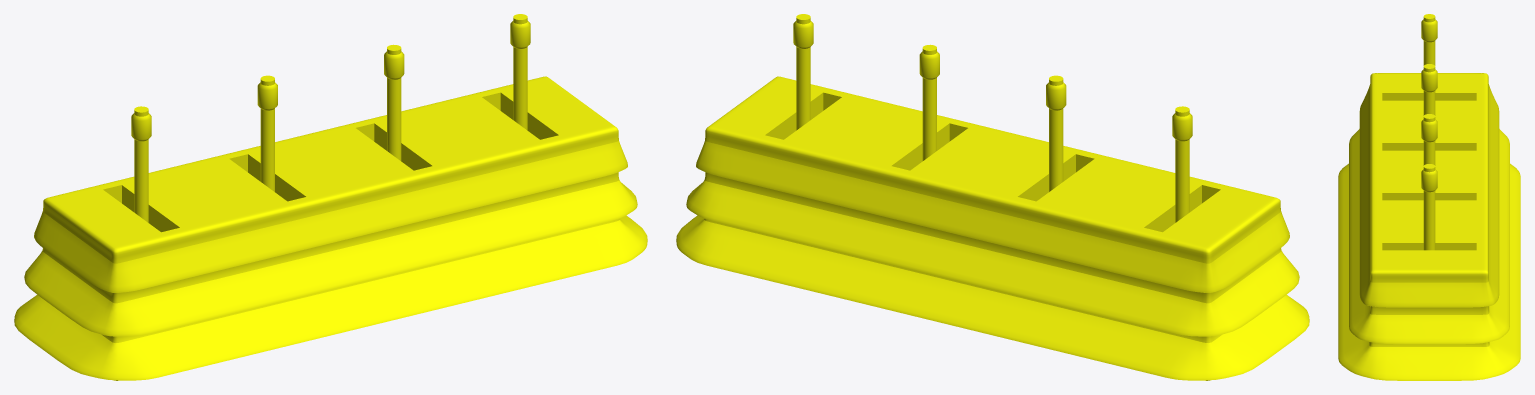
File: PuzzleBox.fbx
The picture shows the model from 3 angles, left to right: view 1: azimuth 30°, elevation 25°; view 2: azimuth 150°, elevation 25°; view 3: azimuth 270°, elevation 25°; orthographic projection. The views are drawn at different scales.
Parts seen in each view (by area): view 1: R2_PuzzleBox_Bottom_Metal, R2_PuzzleBox_Top, R2_PuzzleBox_Bottom_Base, Stick (×4), Handle (×2); view 2: R2_PuzzleBox_Bottom_Metal, R2_PuzzleBox_Top, R2_PuzzleBox_Bottom_Base, Stick (×4), Handle (×2); view 3: R2_PuzzleBox_Bottom_Metal, R2_PuzzleBox_Top, R2_PuzzleBox_Bottom_Base, Stick (×4), Handle (×4).
Boxes of the visible parts, x1,y1,x2,y2 form: R2_PuzzleBox_Bottom_Metal: (14,141,647,380); R2_PuzzleBox_Top: (54,79,607,245); R2_PuzzleBox_Bottom_Base: (42,76,619,380); Stick (×4): (134,14,527,222); Handle (×2): (131,82,277,141); R2_PuzzleBox_Bottom_Metal: (676,141,1309,380); R2_PuzzleBox_Top: (717,79,1269,245); R2_PuzzleBox_Bottom_Base: (704,76,1281,380); Stick (×4): (796,14,1189,222); Handle (×2): (1046,82,1192,141); R2_PuzzleBox_Bottom_Metal: (1338,85,1520,380); R2_PuzzleBox_Top: (1377,75,1481,268); R2_PuzzleBox_Bottom_Base: (1369,73,1489,346); Stick (×4): (1423,14,1435,250); Handle (×4): (1421,19,1437,192).
Size of the model in its own units: 0.0454 by 0.0175 by 0.0154.
